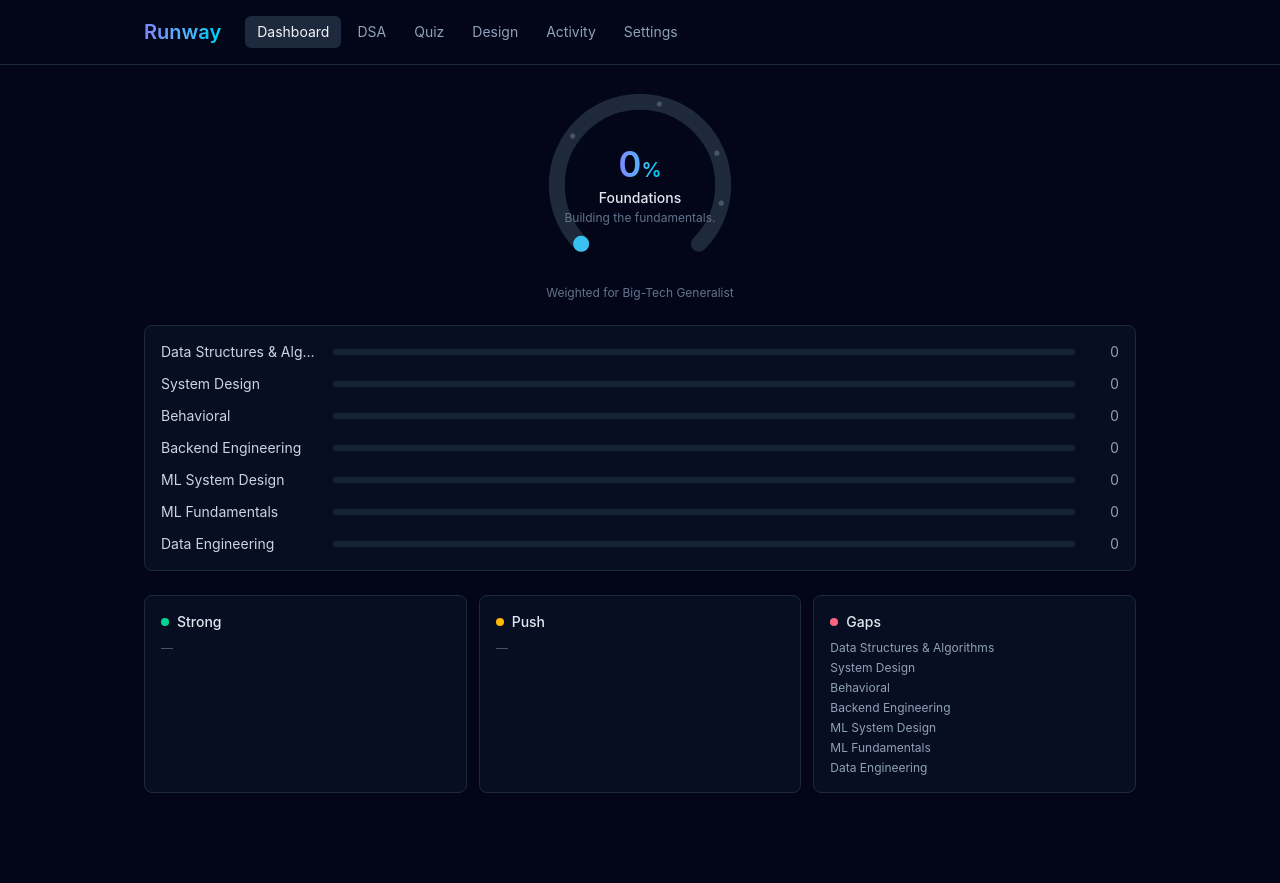
App shell › defaults to the Dashboard and can switch to Settings
Click the button "Settings". click: (651, 32)
box: [612,16,690,48]
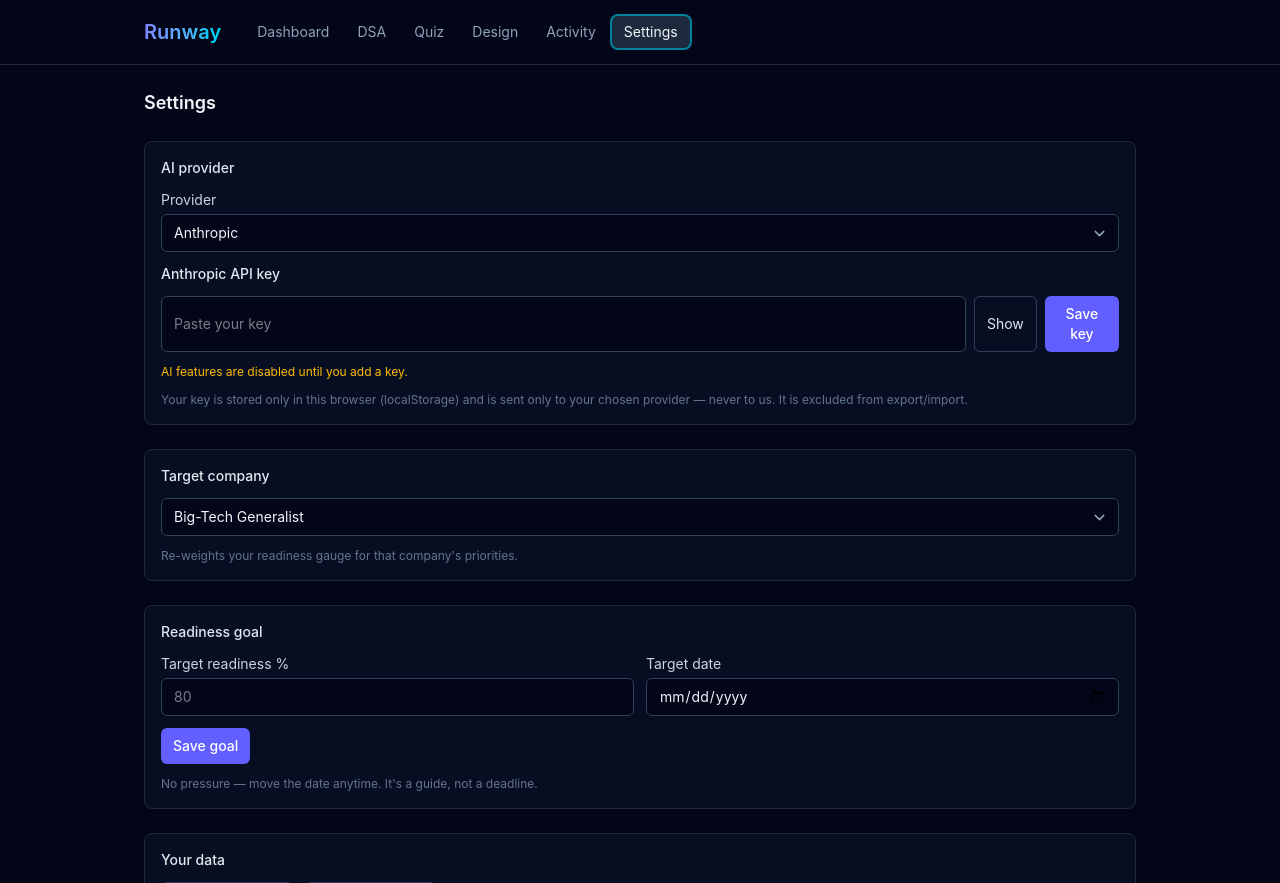
Check: the password field labelled "Anthropic API key" is shown, box [161,296,966,352]
